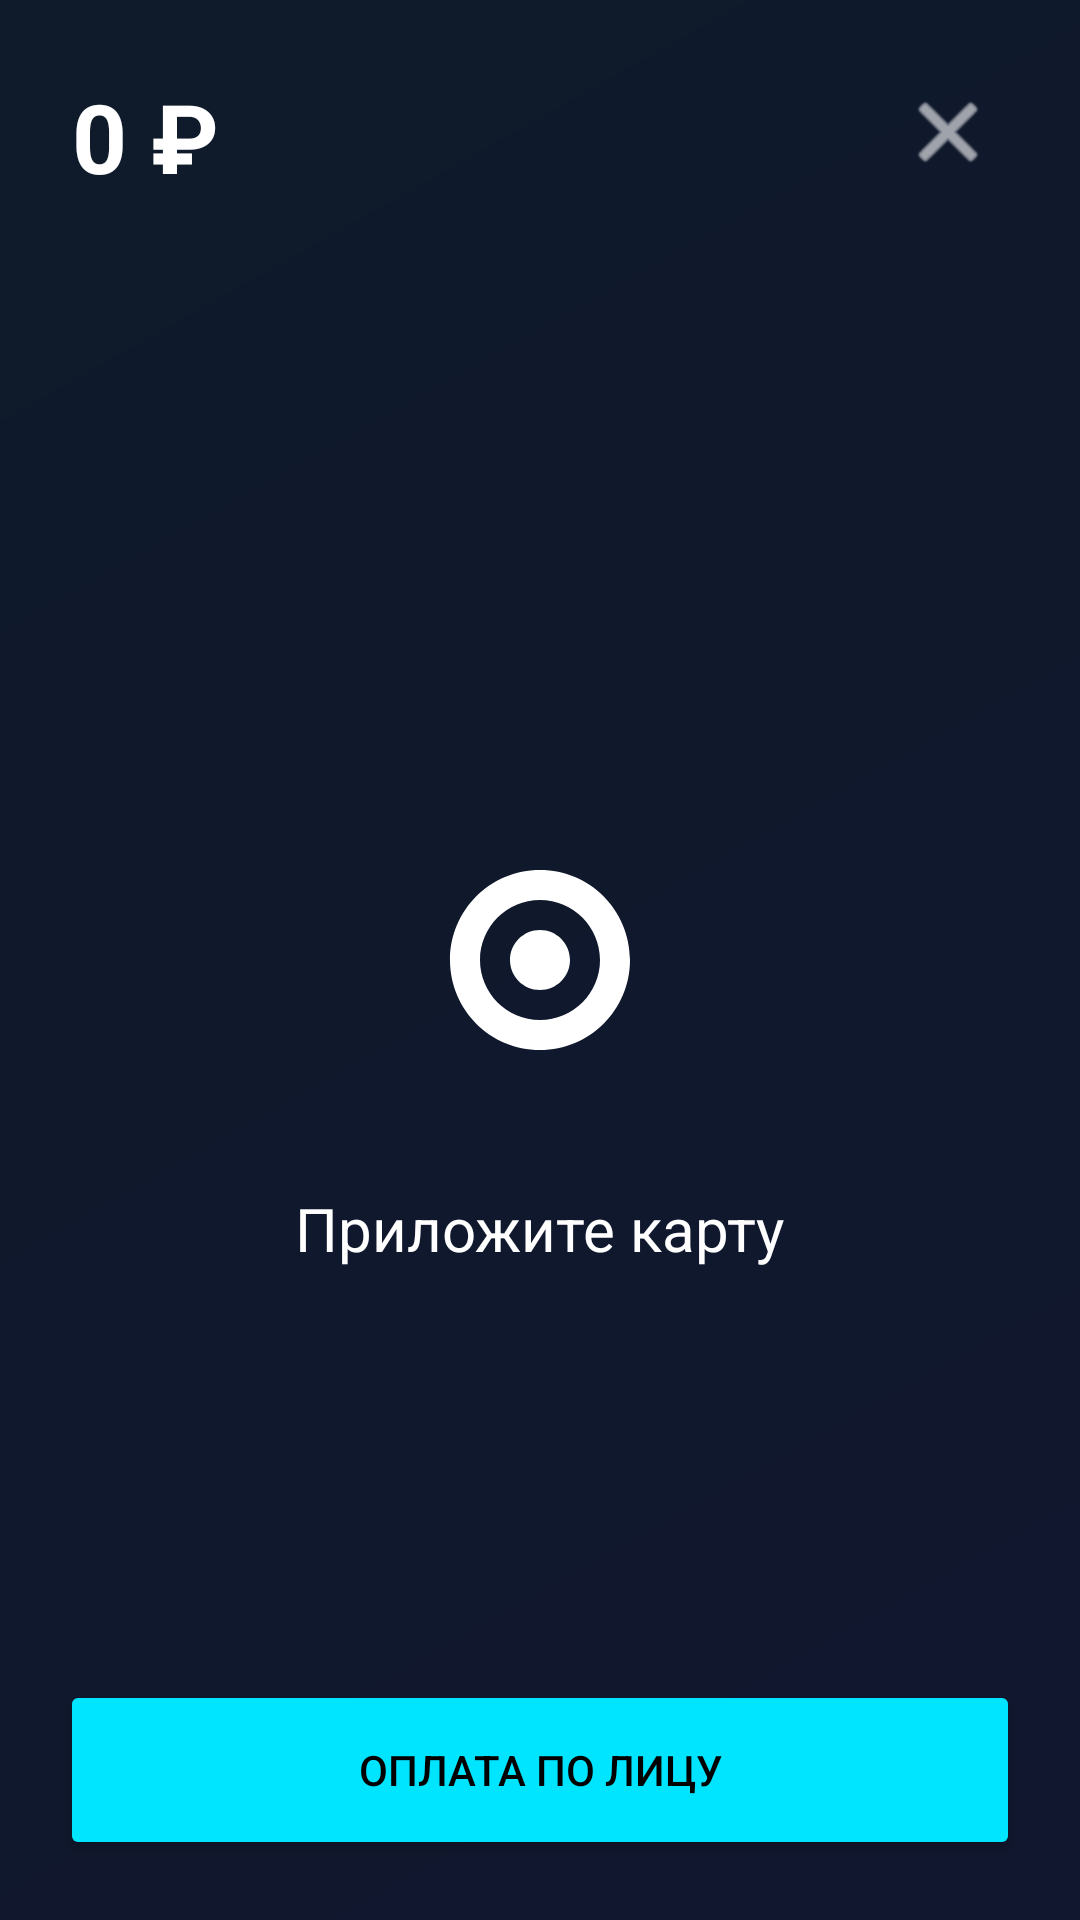

Icon click points for this 1080w x 1920h phone screenshot, format point (x, y):
close clear cancel: point (948, 132)
nfc pulse animation: point (540, 960)
